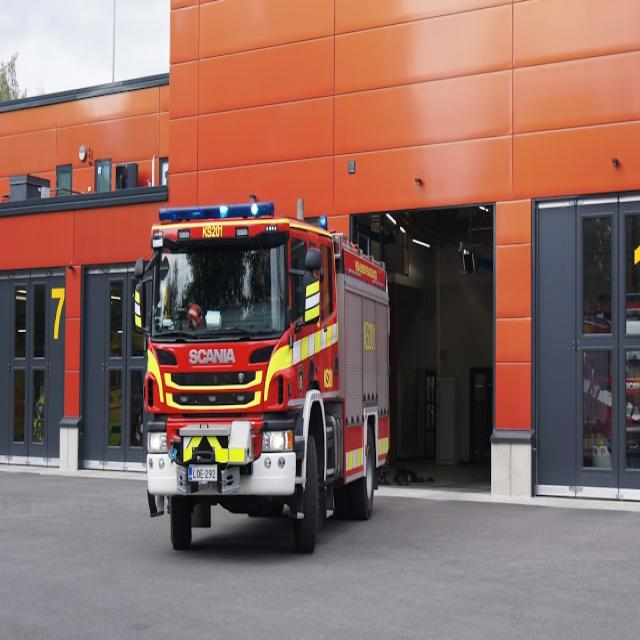emergency: (134, 201, 390, 550)
